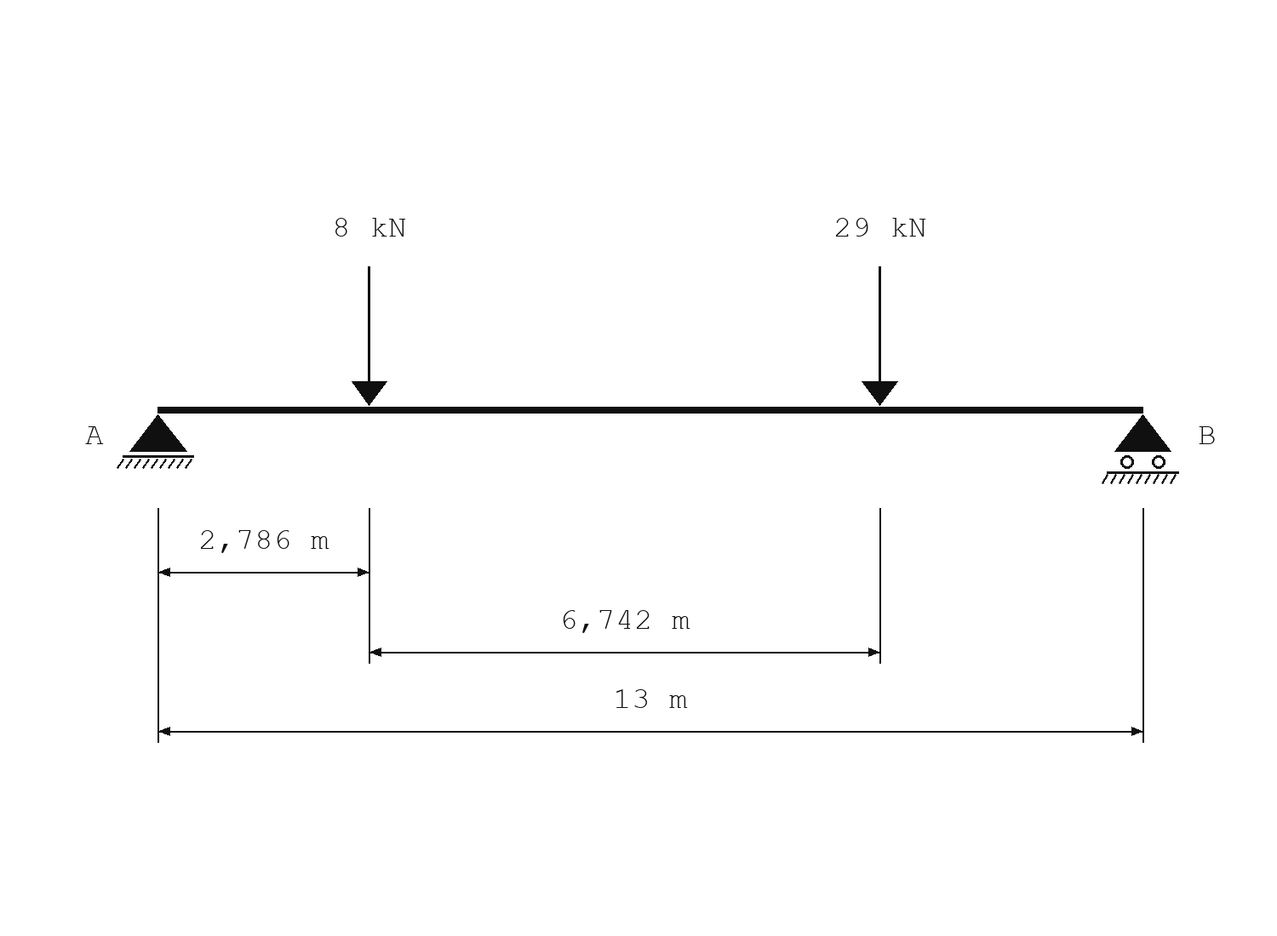pin_support: (117, 414, 194, 469)
point_load: (862, 266, 898, 406), (352, 266, 387, 406)
roller_support: (1102, 414, 1179, 484)
